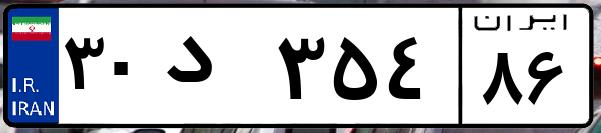0: (110, 28, 158, 98)
3: (270, 28, 330, 110), (57, 26, 110, 100)
4: (385, 28, 445, 110)
5: (330, 28, 385, 110)
6: (525, 38, 570, 115)
8: (475, 38, 525, 113)
د: (158, 20, 270, 120)
